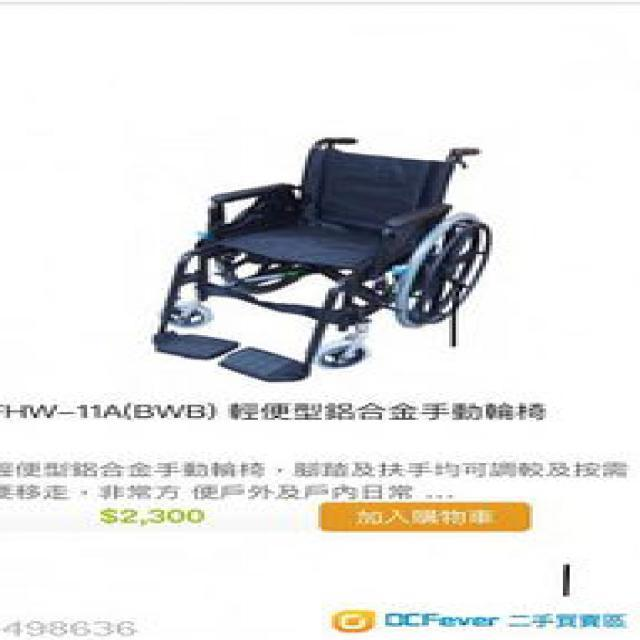wheelchair: (107, 126, 526, 392)
